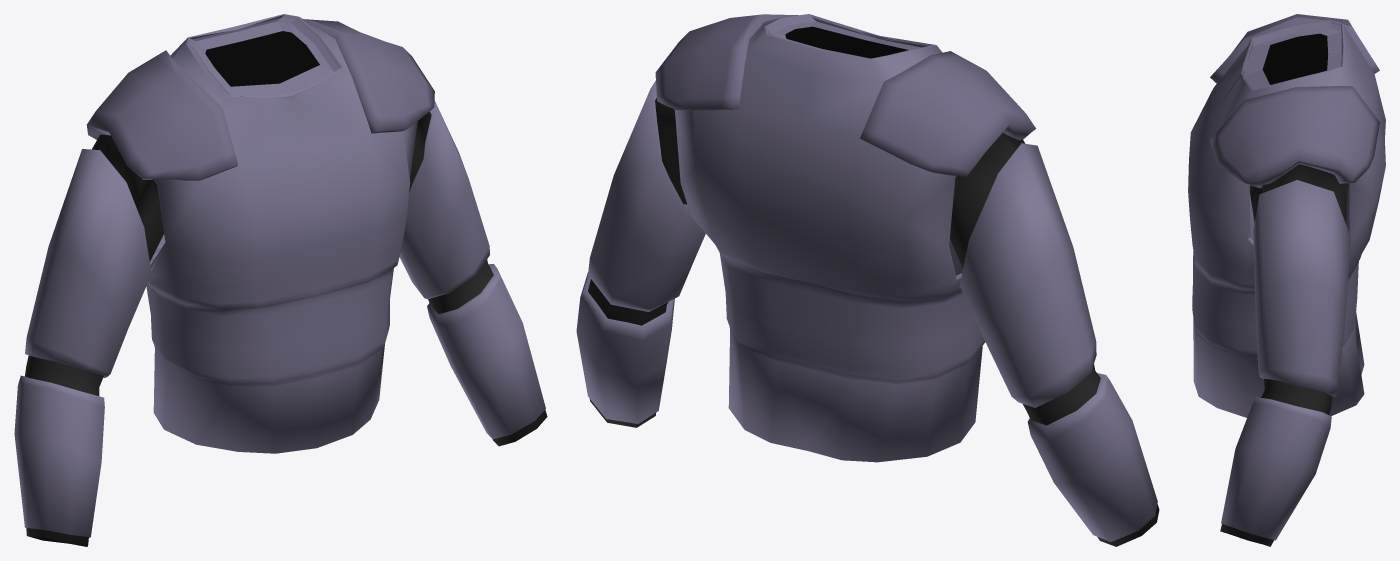
Rendered from Chestplate.fbx.
3 views of the same model, side by side, from view 1: azimuth 30°, elevation 25°; view 2: azimuth 150°, elevation 25°; view 3: azimuth 270°, elevation 25° (orthographic). The views are drawn at different scales.
Visible parts, largest first — view 1: Platebody; view 2: Platebody; view 3: Platebody.
Part boxes in pixels (bbox=[...]): Platebody: bbox=[14, 14, 547, 546]; Platebody: bbox=[576, 14, 1159, 546]; Platebody: bbox=[1188, 14, 1385, 546].
Size of the model in its own units: 0.8523 by 0.6862 by 0.3072.
